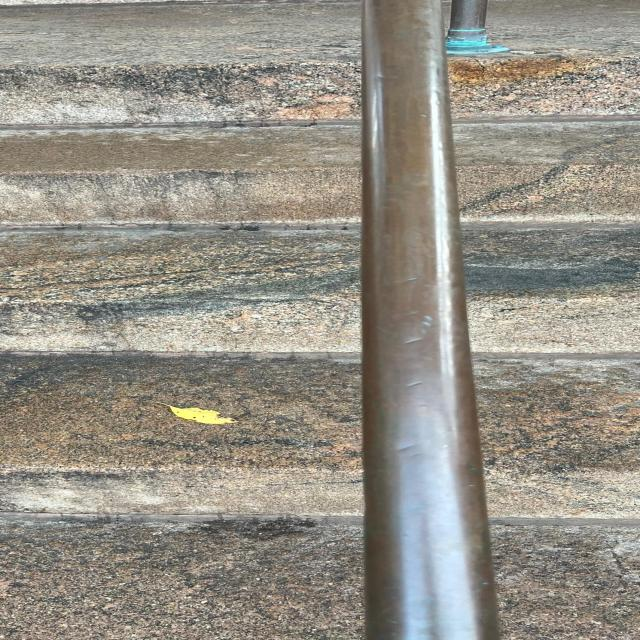Uniform Corrosion: (358, 1, 501, 640)
